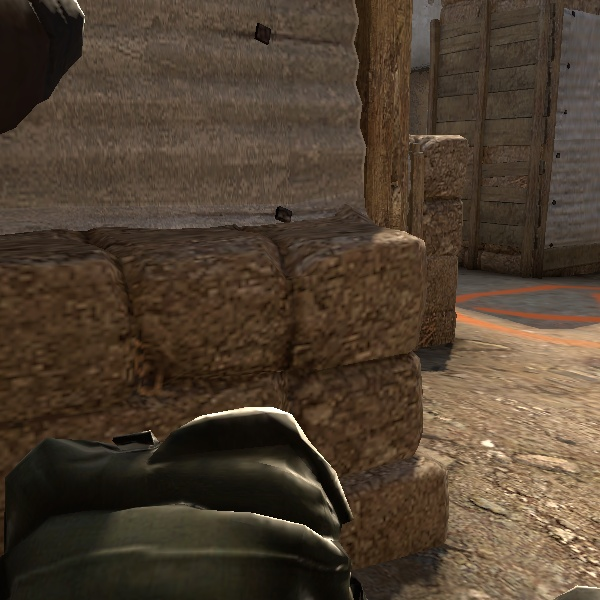ct_body: (30, 384, 439, 591)
